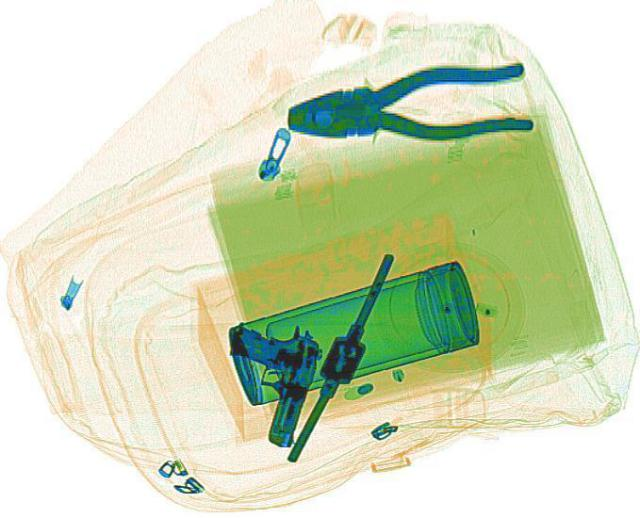Gun: (198, 315, 326, 446)
Pliers: (279, 55, 537, 158)
